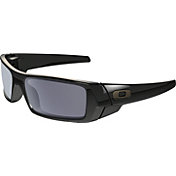sunglasses: (1, 49, 173, 121)
